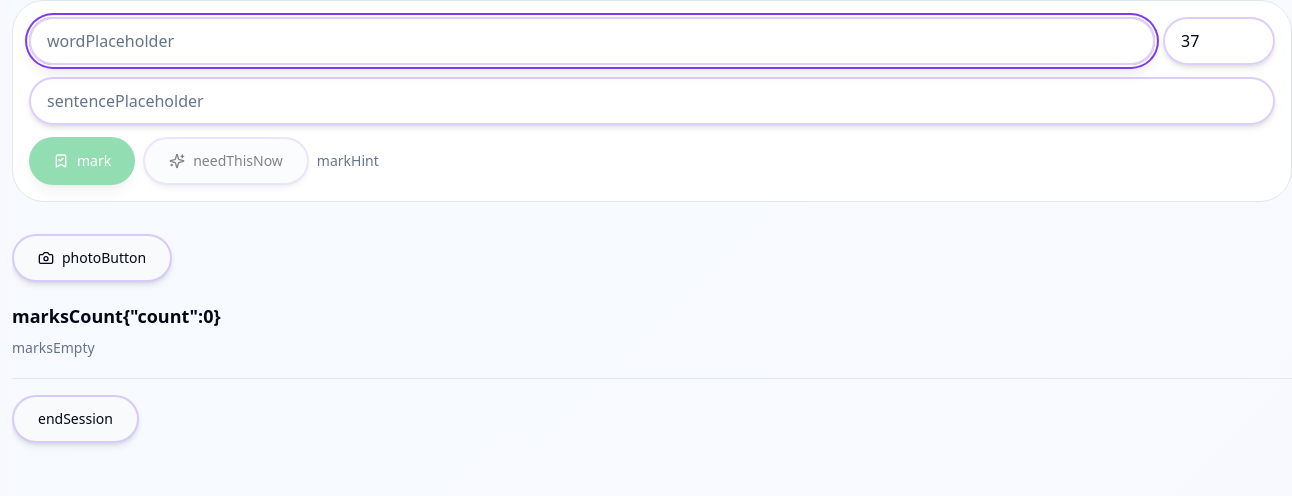
BookSession capture bar › says so when a mark could not be saved and keeps the word
Type "cinta" into the field named "wordLabel" at [592, 41], box [29,17,1155,65]
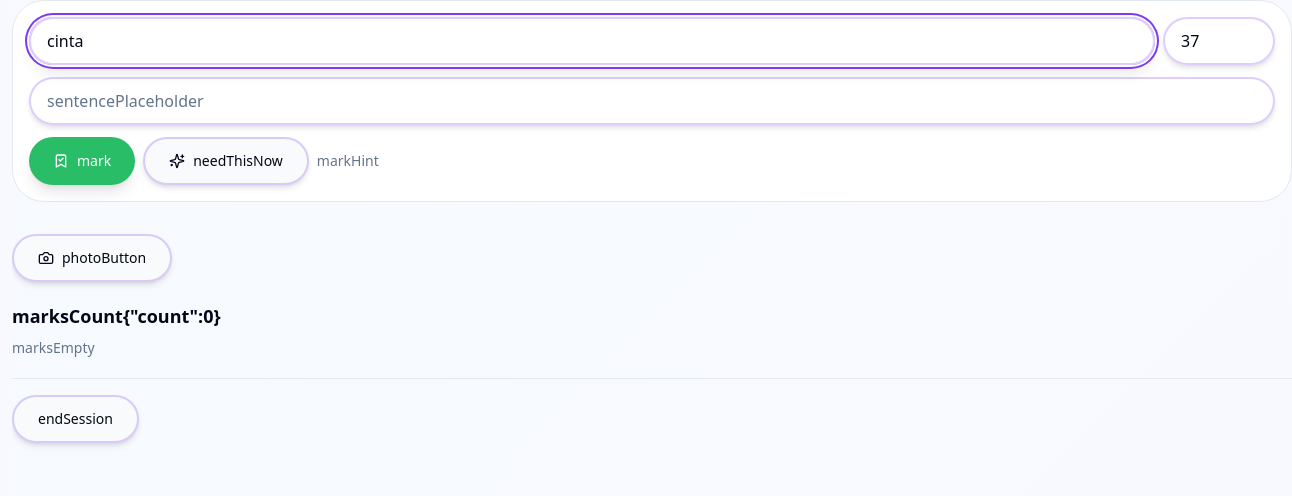
Submit the form with test id "capture-bar", box [12,0,1291,202]
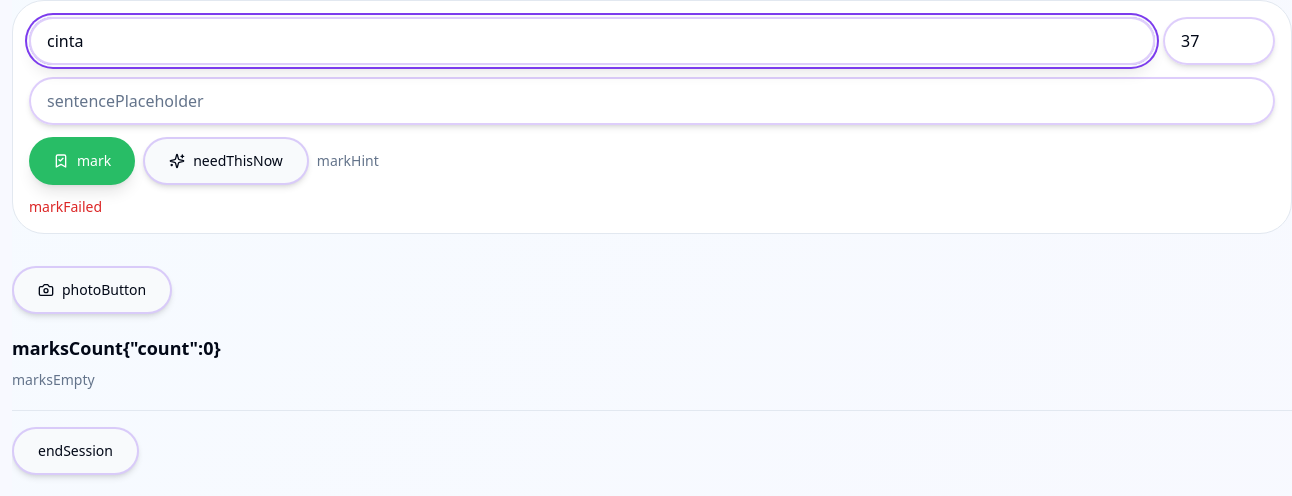
expect the message reads "markFailed": met, box [29,197,102,216]
